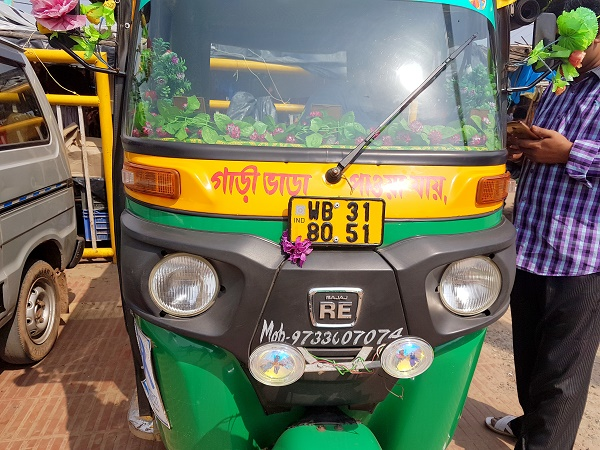doublelinenumberplate: (286, 195, 386, 249)
